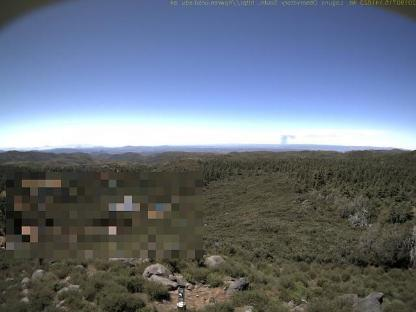smoke: (280, 133, 300, 149)
